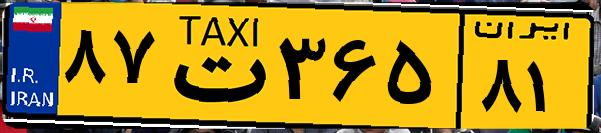1: (525, 38, 570, 115)
3: (270, 28, 330, 110)
5: (385, 28, 445, 110)
6: (330, 28, 385, 110)
7: (110, 28, 158, 98)
8: (57, 26, 110, 100), (475, 38, 525, 113)
ت: (158, 12, 270, 120)
